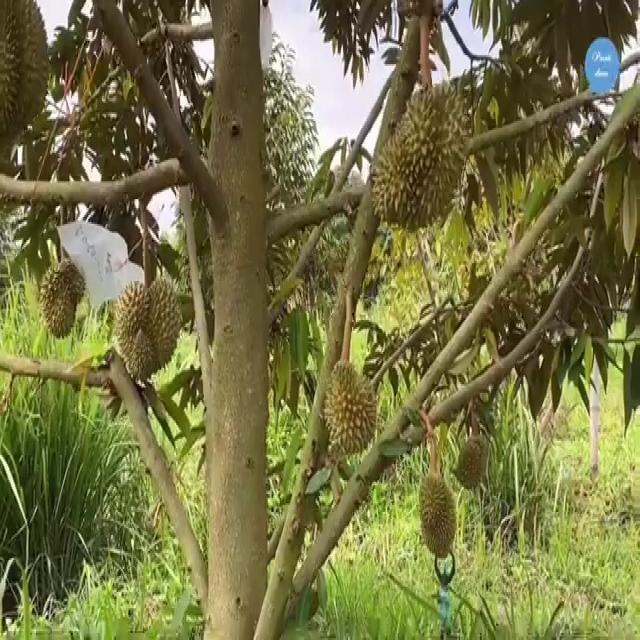durian: (366, 80, 476, 234), (0, 1, 53, 163), (109, 276, 184, 383), (322, 358, 380, 460), (37, 254, 90, 344), (418, 469, 460, 563), (455, 433, 490, 492)
